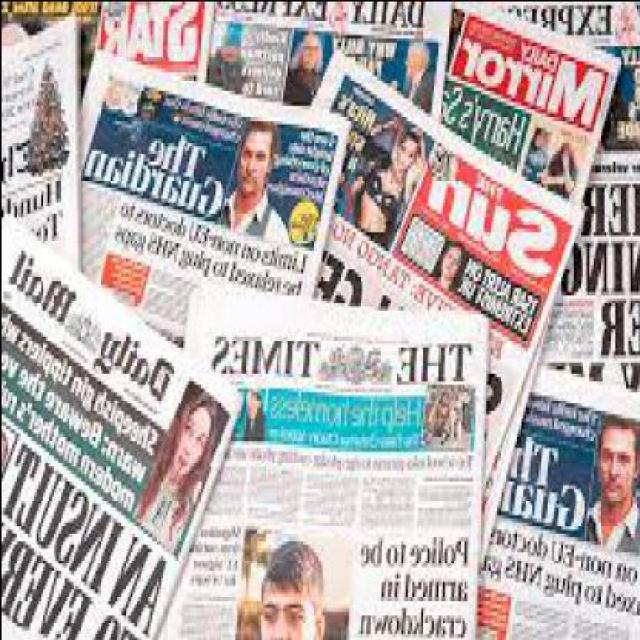PAPER: (2, 0, 640, 637), (184, 276, 491, 636), (2, 206, 245, 636), (310, 45, 588, 362), (80, 44, 354, 336), (496, 1, 638, 368), (480, 360, 638, 637), (450, 4, 622, 198), (207, 2, 456, 108), (2, 8, 81, 264), (2, 1, 106, 97), (96, 0, 207, 86)
